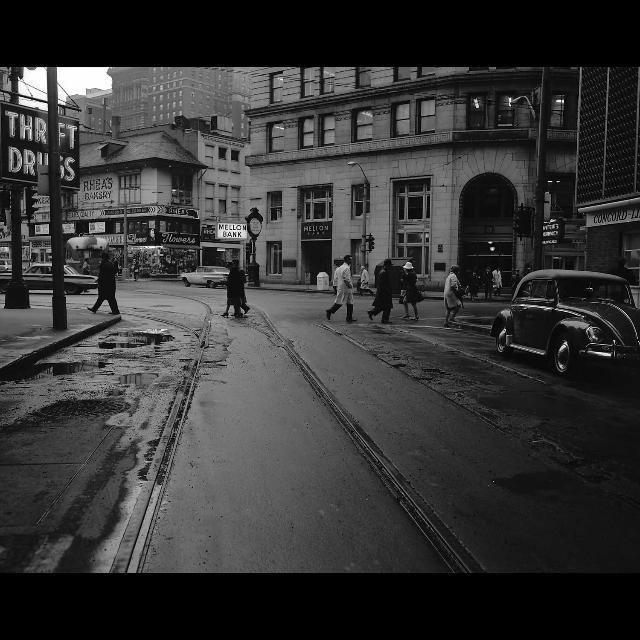head: (344, 254, 354, 266), (382, 260, 393, 270), (450, 266, 460, 276), (100, 254, 110, 262), (233, 258, 241, 268), (406, 263, 412, 273), (228, 261, 235, 269), (361, 266, 365, 272), (487, 268, 491, 274), (334, 264, 338, 268), (496, 266, 500, 270), (512, 271, 516, 275), (85, 258, 88, 262)
person: (86, 252, 122, 316), (326, 254, 358, 324), (366, 259, 396, 325), (443, 264, 469, 330), (400, 261, 426, 321), (220, 261, 244, 319), (230, 258, 250, 318), (508, 268, 524, 306), (480, 268, 496, 302), (358, 265, 374, 297), (331, 262, 342, 296), (81, 258, 91, 294), (492, 266, 502, 298)
